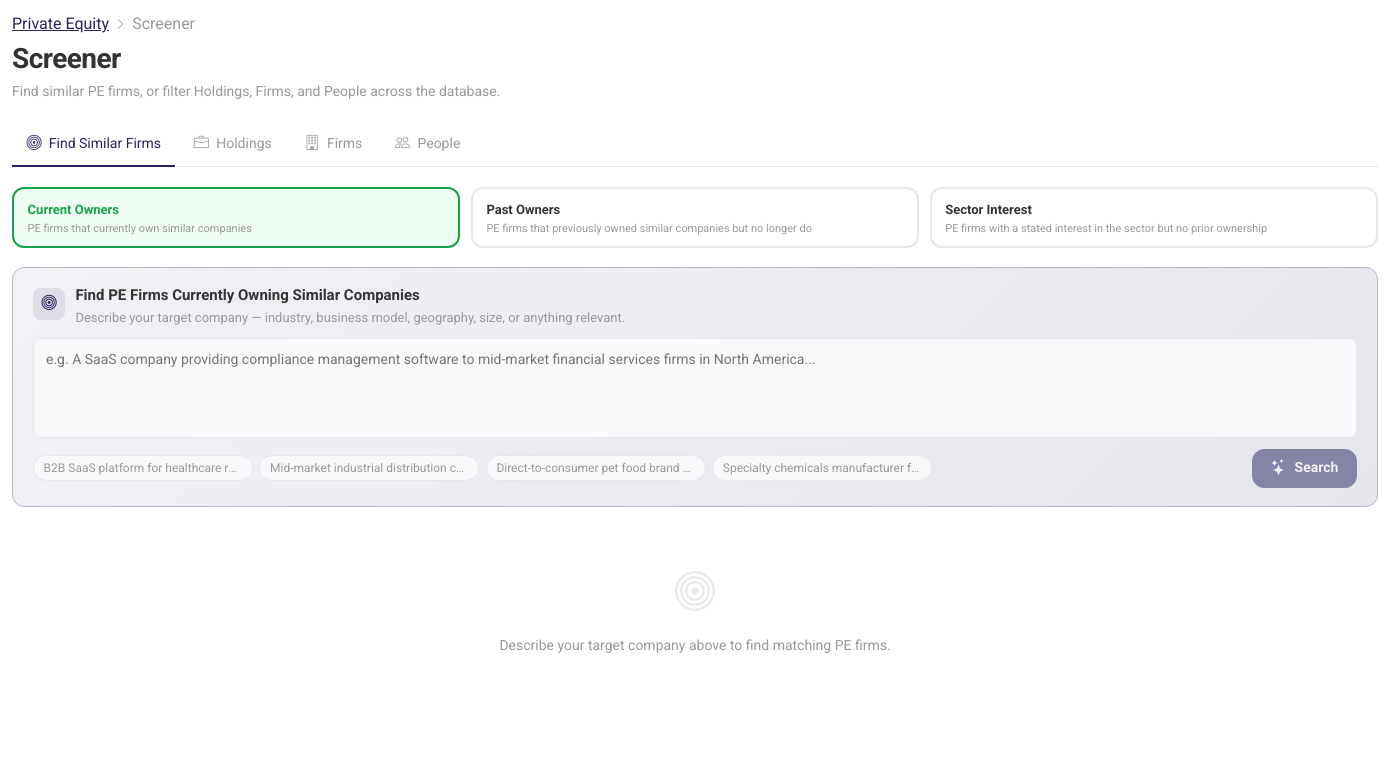
PEScreenerPage — Find Similar › surfaces the backend rephrase hint on an empty plan (no crash)
Type "asdfghjkl" into the text box named "target company description" at x=695, y=388, box [33,338,1357,438]
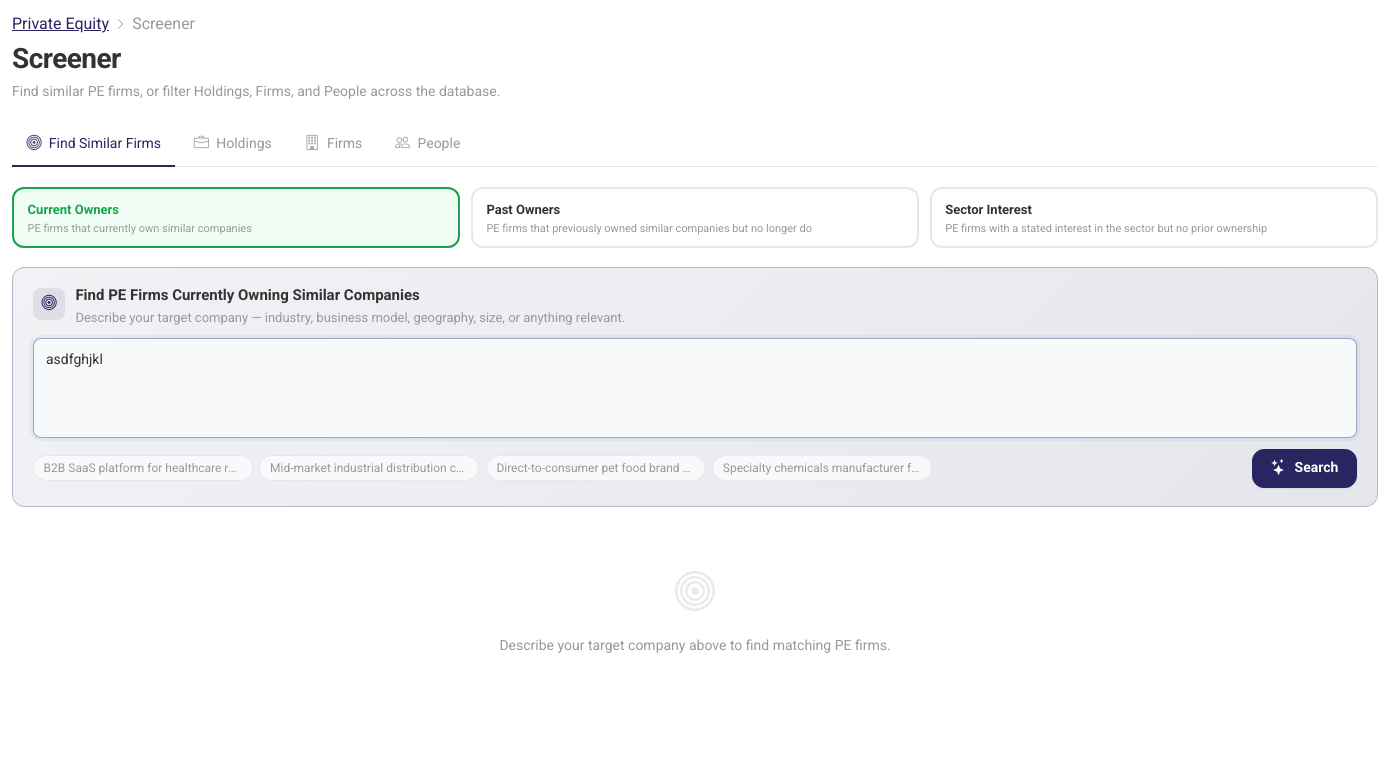
Click the button "Search" at x=1304, y=468, box [1252,449,1357,488]
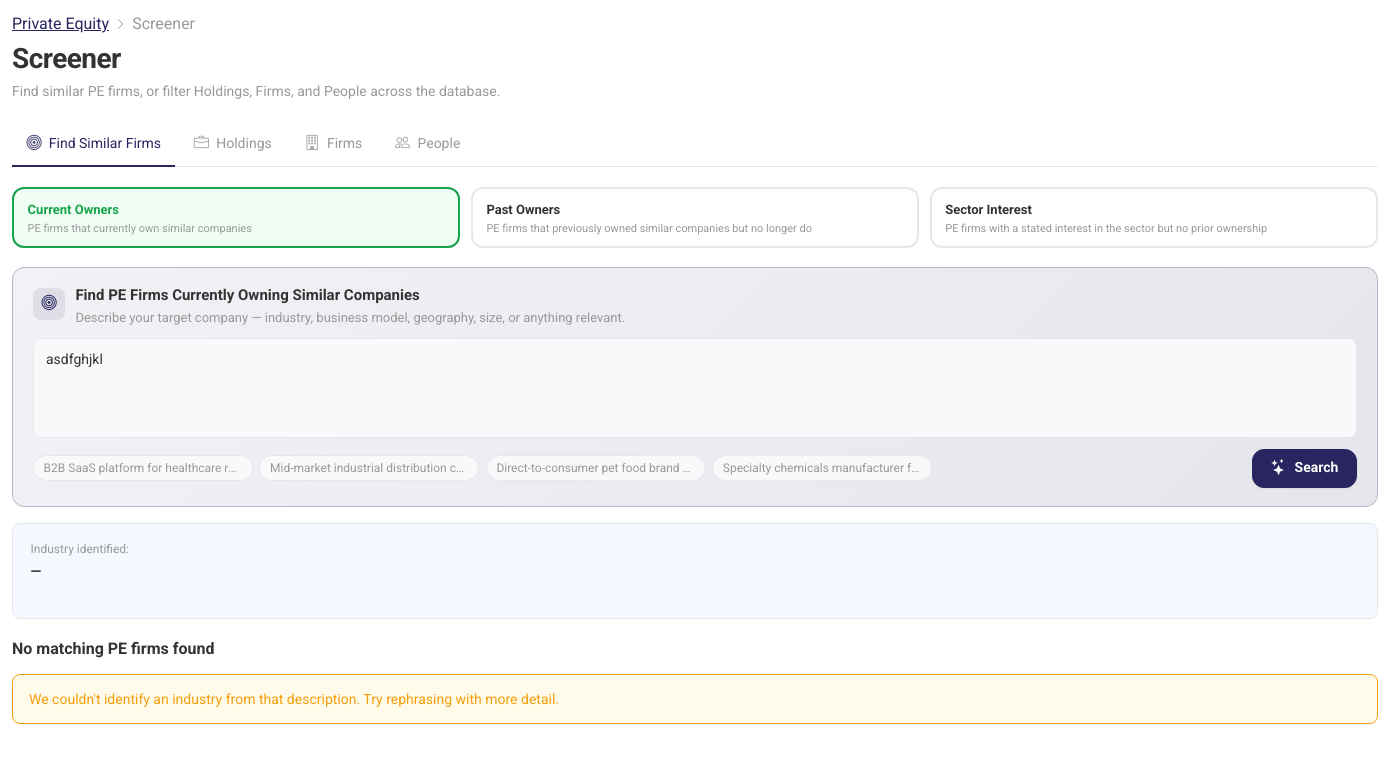
Result: the text "couldn't identify an industry" is shown at [29,691,559,707]
